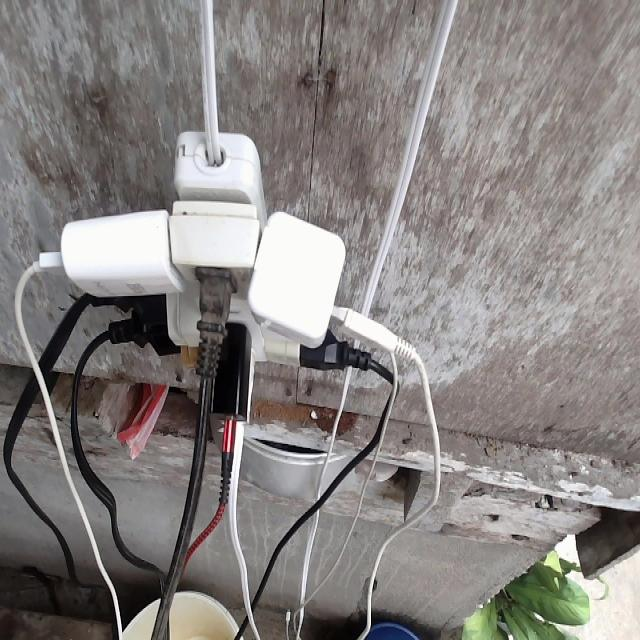-: (35, 131, 417, 472)
